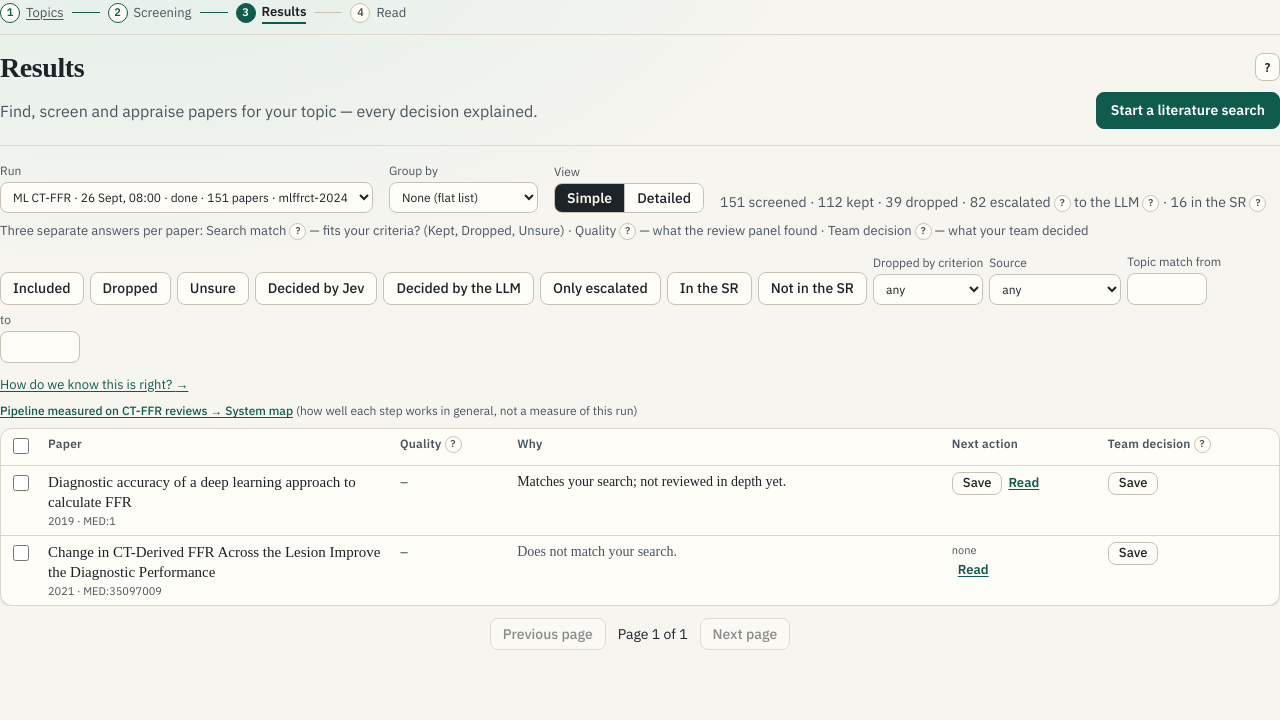
Test case: saving papers to the library › a refused save rolls the rows back and says why
Click the checkbox named "Select Diagnostic accuracy".
click(21, 483)  # box [13,475,29,491]
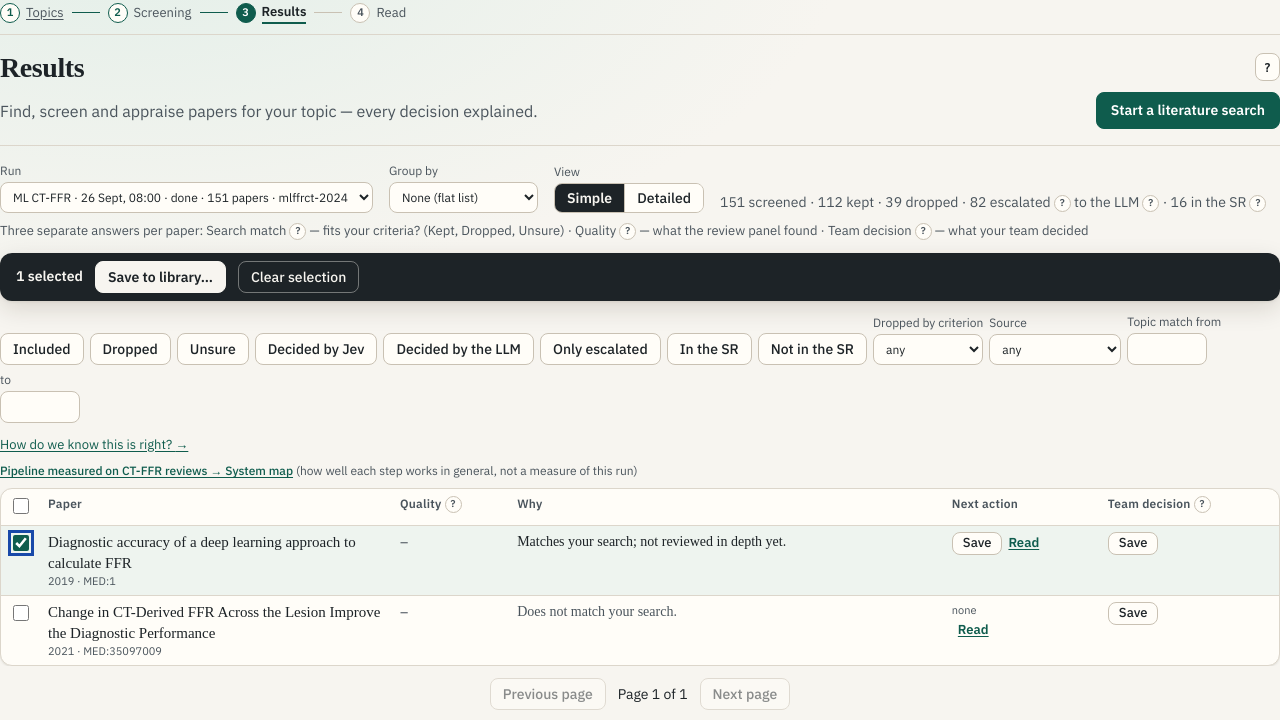
Click the button "Save to library…".
click(160, 277)  # box [95,261,226,293]
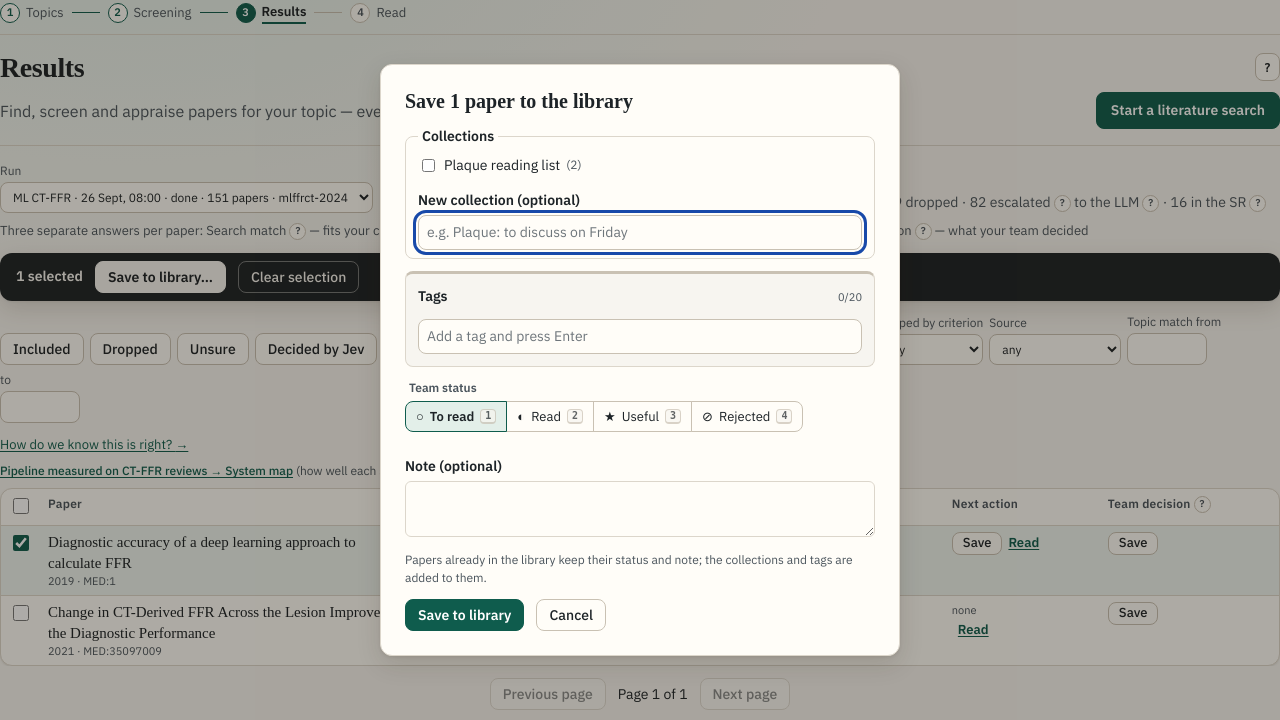
Click the button "Save to library".
click(465, 615)  # box [405,599,524,631]
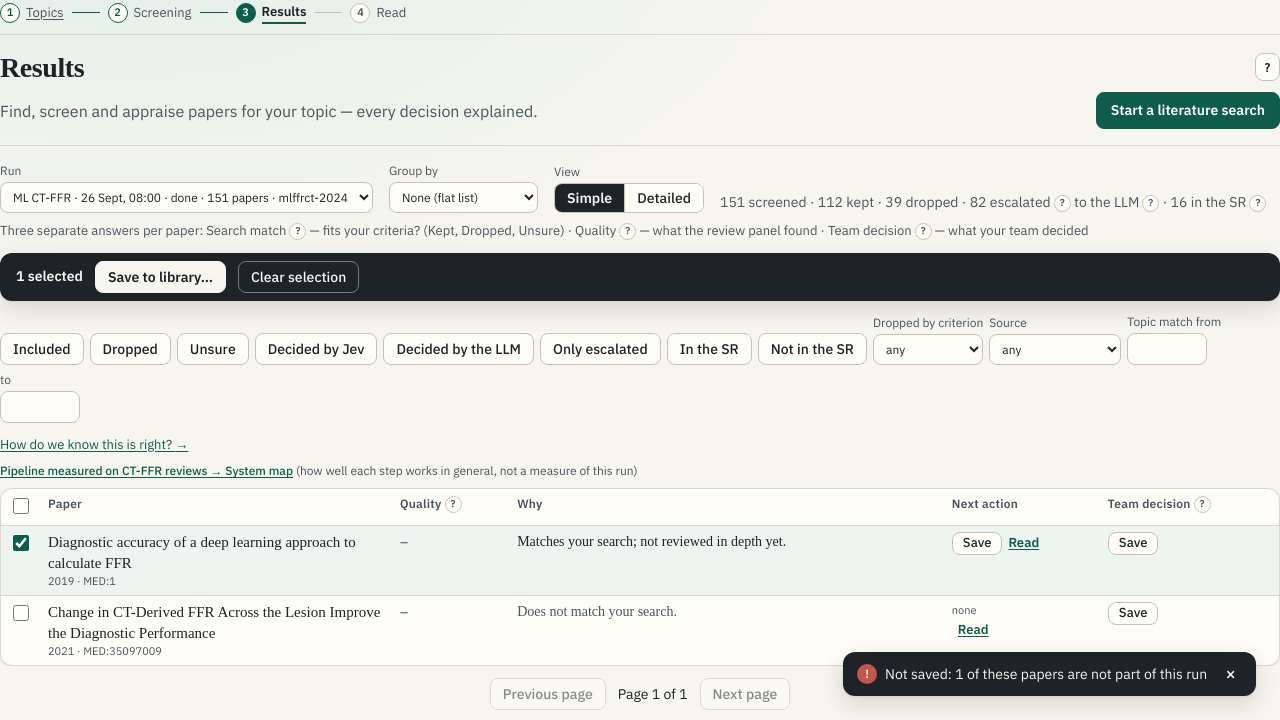
Check: the text "Not saved: 1 of these papers are not part of this run" is shown, box [885,664,1207,684]
